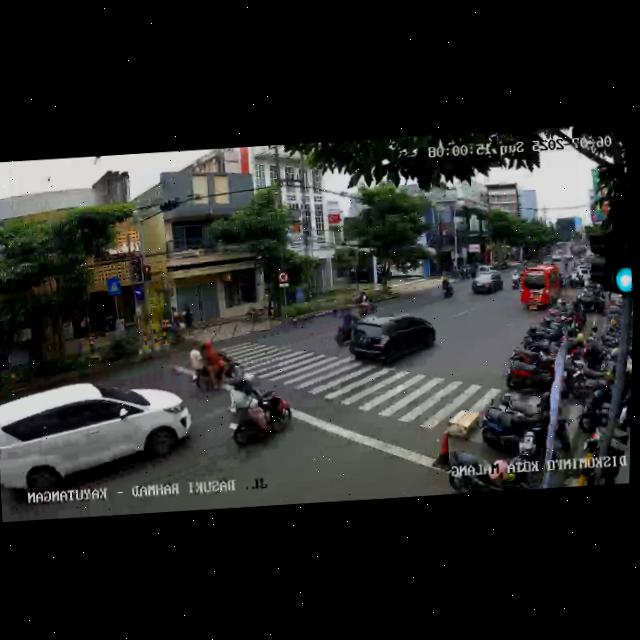car: (0, 377, 195, 508), (346, 310, 440, 371), (518, 263, 564, 313), (468, 269, 505, 297)
motorcycle: (222, 368, 292, 452), (186, 334, 235, 393), (332, 308, 358, 348), (353, 290, 376, 318), (440, 273, 456, 300), (508, 267, 523, 290)
